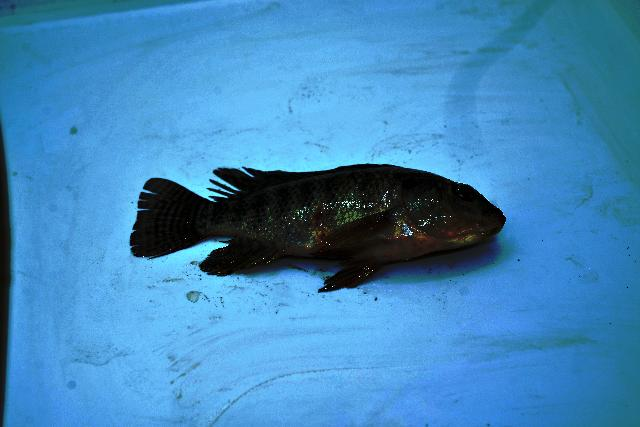Columnaris Disease: (131, 164, 506, 291)
